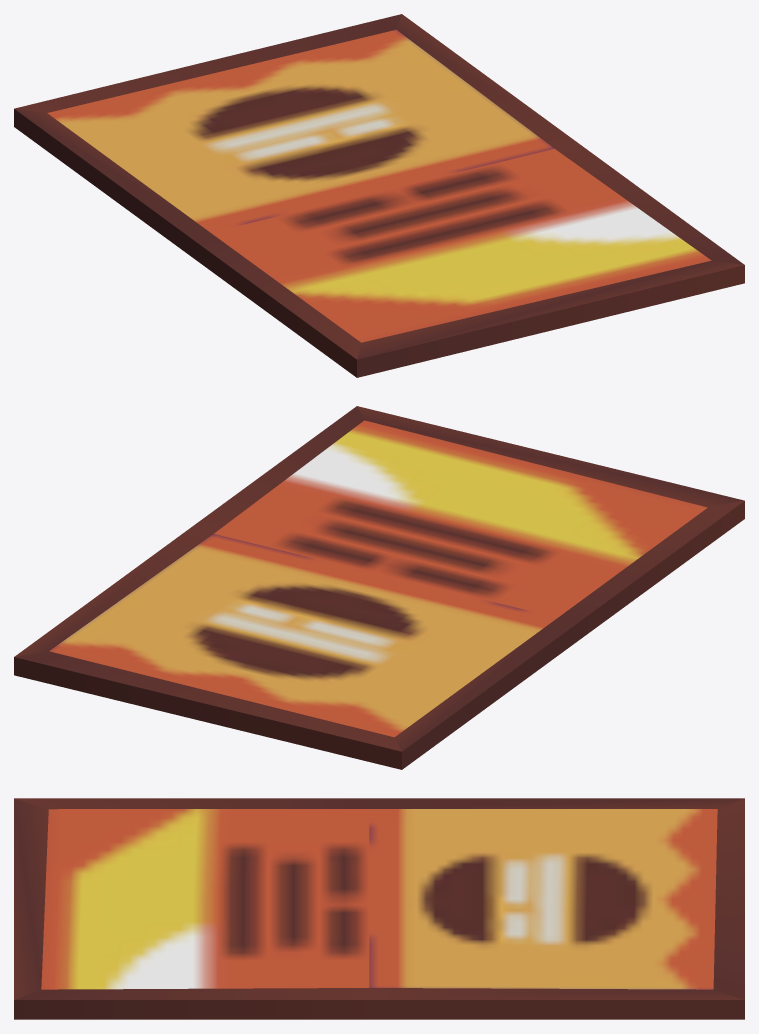
File: SM_Prop_Menu_02.obj
The picture shows the model from 3 angles, top to bottom: view 1: azimuth 30°, elevation 25°; view 2: azimuth 150°, elevation 25°; view 3: azimuth 270°, elevation 25°; orthographic projection. The views are drawn at different scales.
Parts seen in each view (by area): view 1: SM_Prop_Menu_02_0; view 2: SM_Prop_Menu_02_0; view 3: SM_Prop_Menu_02_0.
Part boxes in pixels (x1,y1,x2,y2): SM_Prop_Menu_02_0: (14,14,744,377); SM_Prop_Menu_02_0: (14,406,744,769); SM_Prop_Menu_02_0: (14,798,744,1019).
Size of the model in its own units: 0.2356 by 0.0106 by 0.3607.
1 material, 1 textured.
